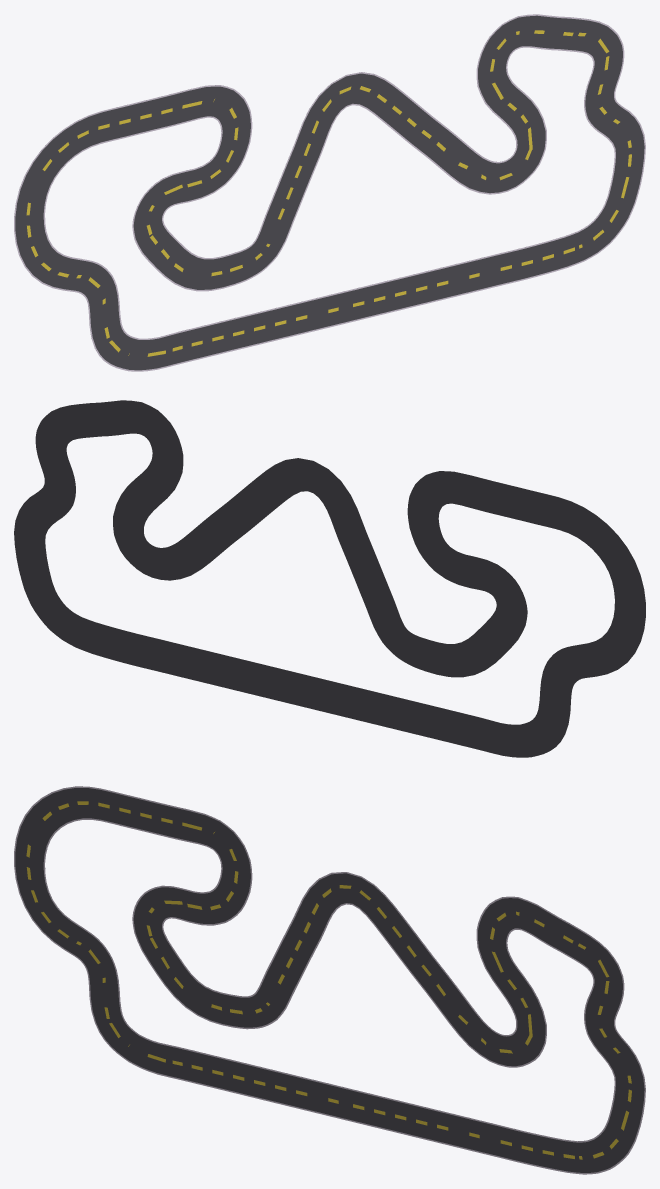
File: track.obj
3 renders of one model, top to bottom at view 1: azimuth 30°, elevation 25°; view 2: azimuth 150°, elevation 25°; view 3: azimuth 330°, elevation 25°, orthographic.
Size of the model in its own units: 18.49 by 7.62 by 0.002.
